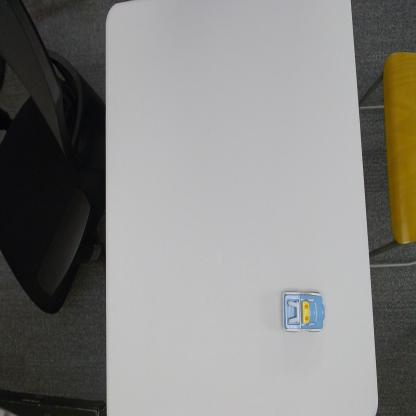Car: (280, 290, 326, 336)
